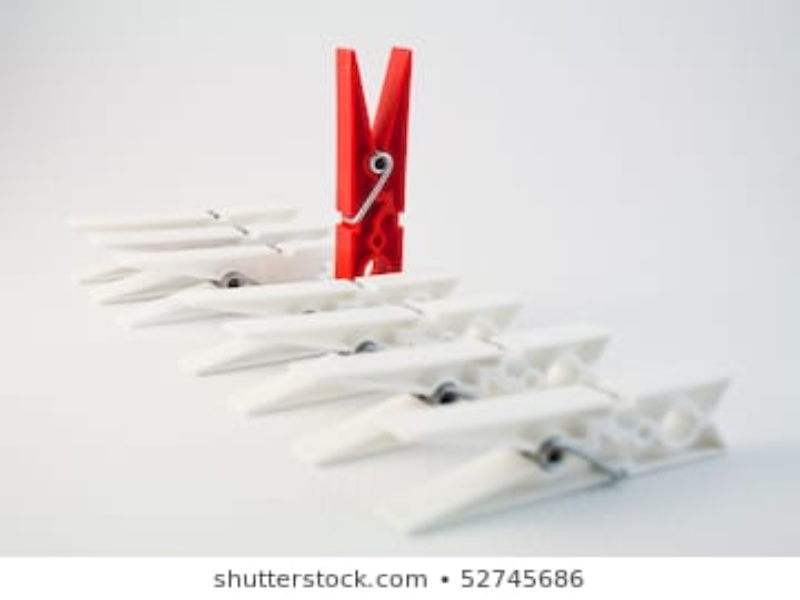plastic-peg: (389, 361, 762, 533), (282, 333, 617, 457), (317, 41, 446, 289), (216, 309, 540, 368), (117, 245, 365, 300)
